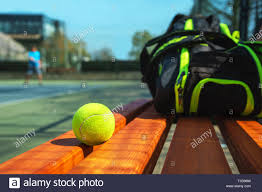tennis_ball: (72, 102, 115, 146)
